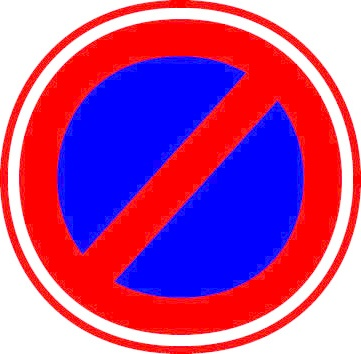Prohibition_sign: (6, 4, 361, 353)
